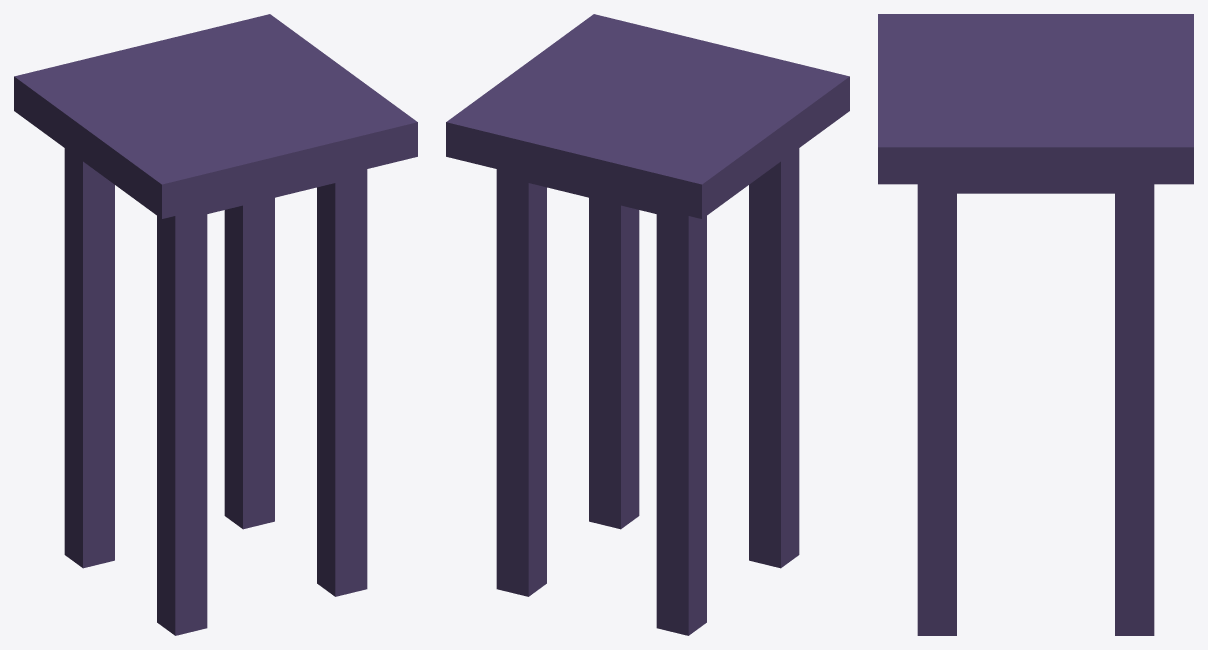
File: Stool.fbx
3 views of the same model, side by side, from view 1: azimuth 30°, elevation 25°; view 2: azimuth 150°, elevation 25°; view 3: azimuth 270°, elevation 25° (orthographic). The views are drawn at different scales.
Parts seen in each view (by area): view 1: Stool; view 2: Stool; view 3: Stool.
Part boxes in pixels (bbox=[...]): Stool: bbox=[14, 14, 417, 635]; Stool: bbox=[446, 14, 849, 635]; Stool: bbox=[878, 14, 1193, 635].
Bounding box in the file's own units: 0.2934 × 0.5178 × 0.2934.
